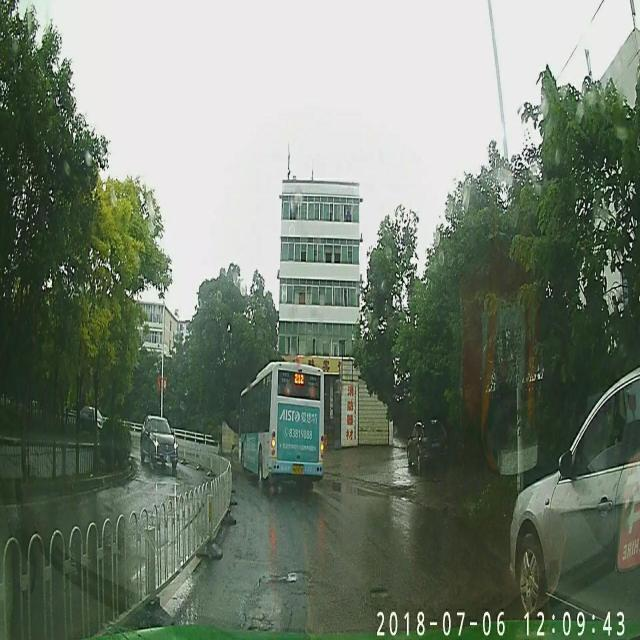car: (508, 367, 640, 630), (406, 418, 450, 476), (138, 414, 178, 471), (76, 407, 106, 438)
